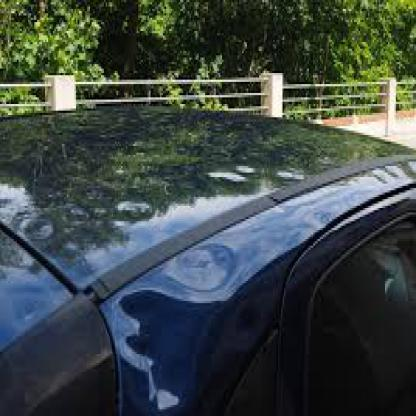dent: (120, 285, 201, 403), (155, 233, 242, 298)
